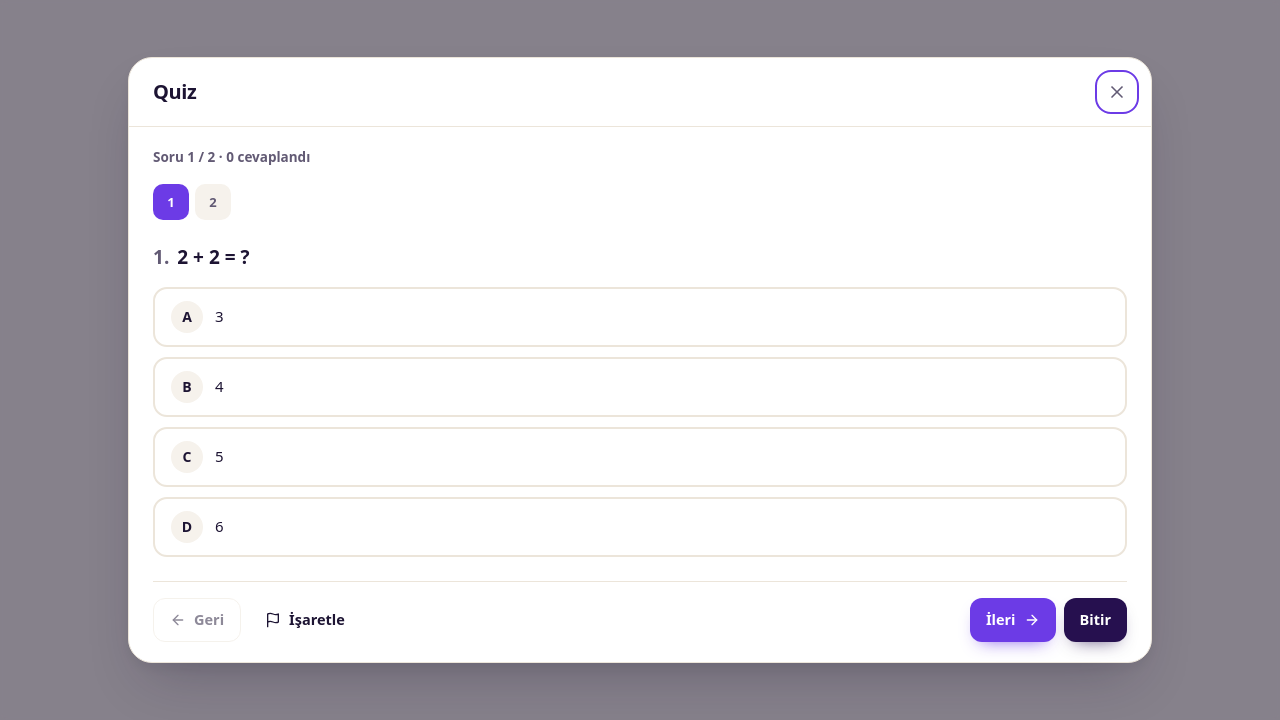
QuizPlayer with server grading › keeps the answers and offers a retry when sending fails
Click the radio button labelled "4".
click(187, 387)  # box [153,356,1127,416]
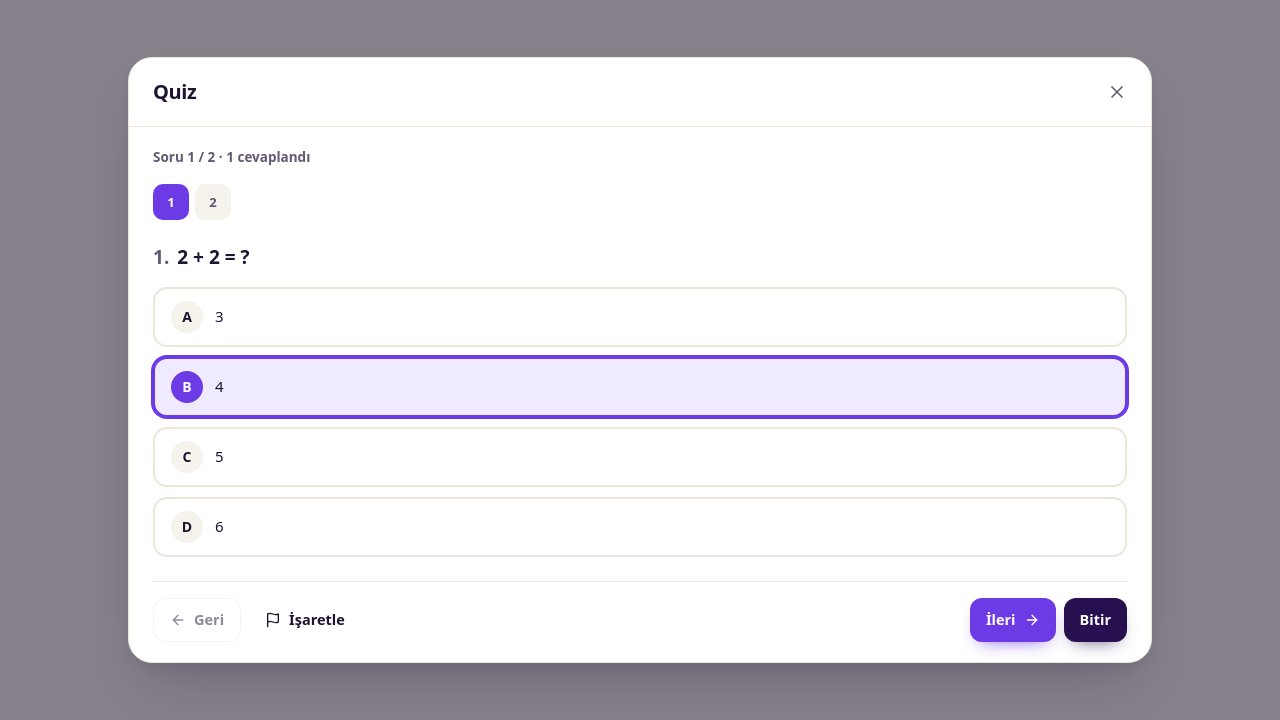
Click the button "İleri".
click(1013, 620)  # box [970,598,1056,642]
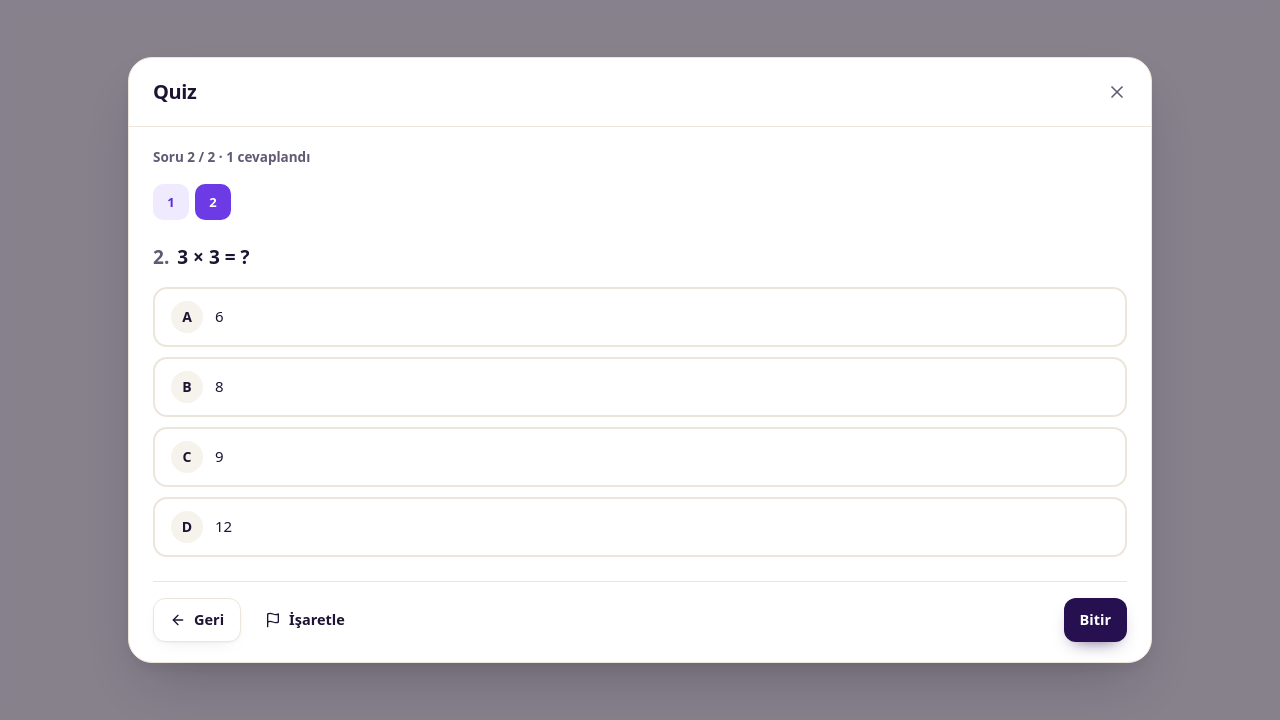
Click the radio button labelled "9".
click(187, 457)  # box [153,426,1127,486]
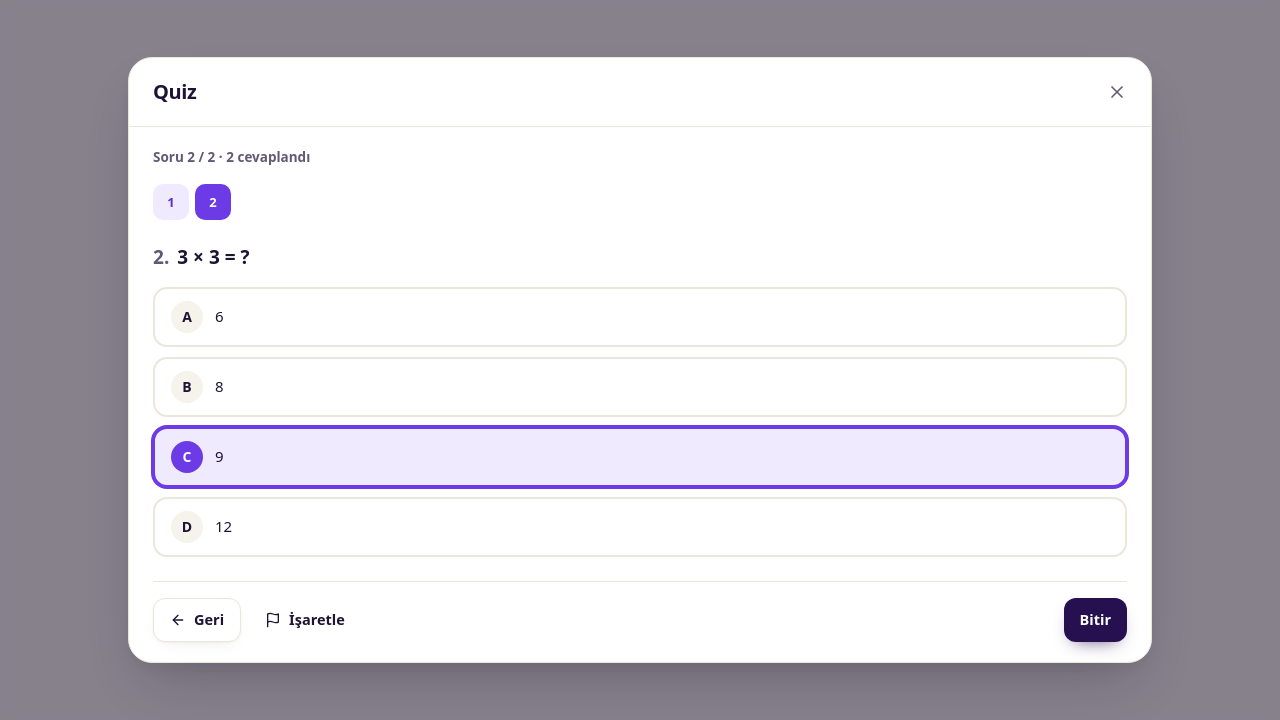
Click the button "Bitir".
click(1095, 620)  # box [1064,598,1127,642]
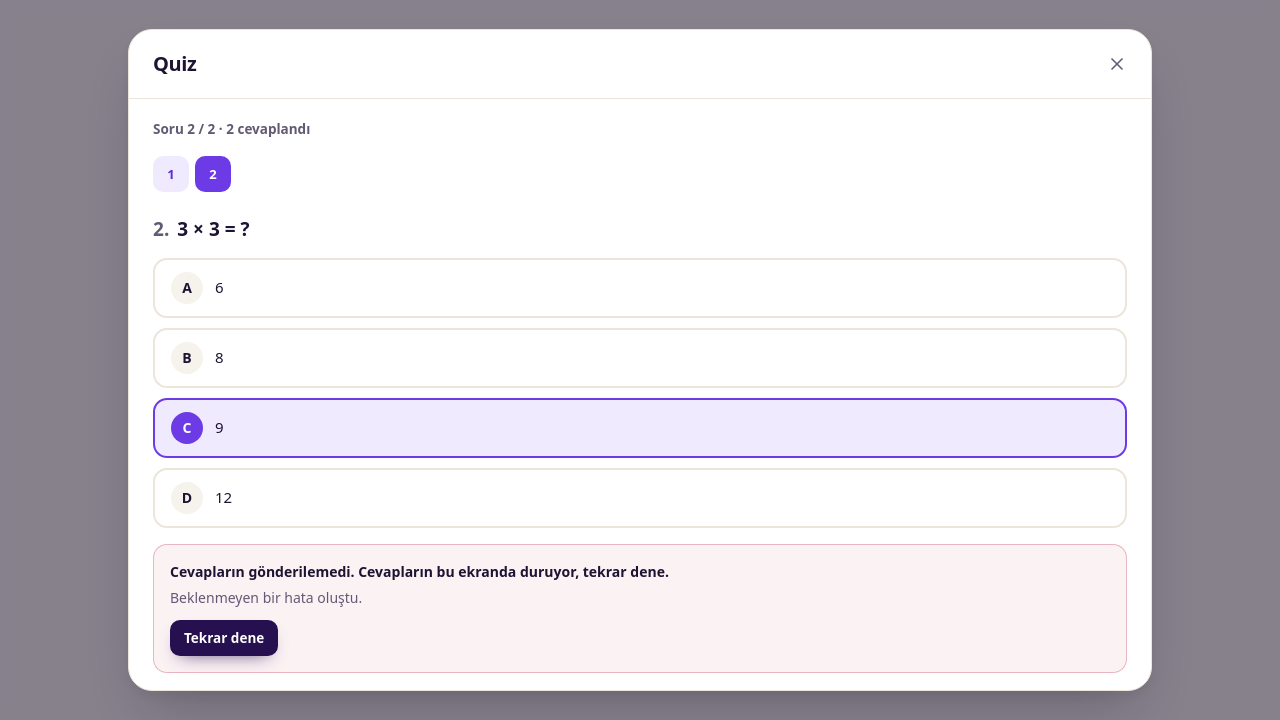
Click the button "Tekrar dene".
click(224, 638)  # box [170,620,278,656]
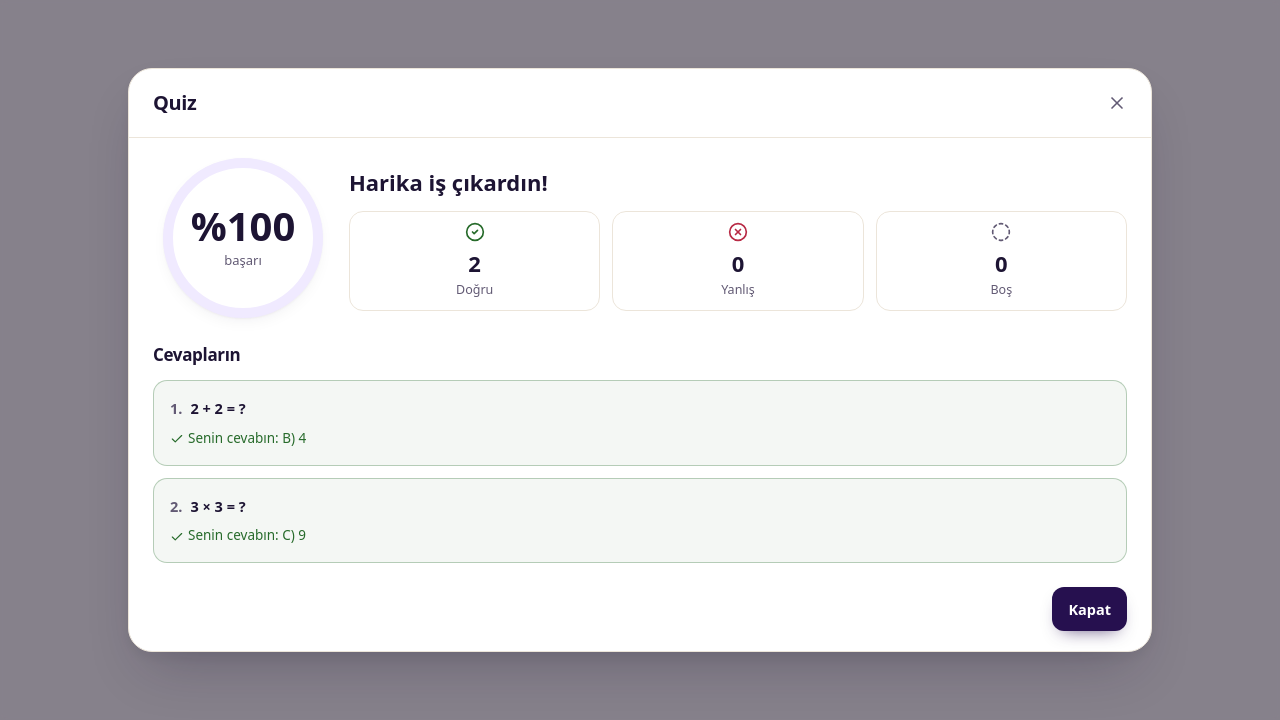
Now the text "%100" is shown, box [191,206,295,246]
